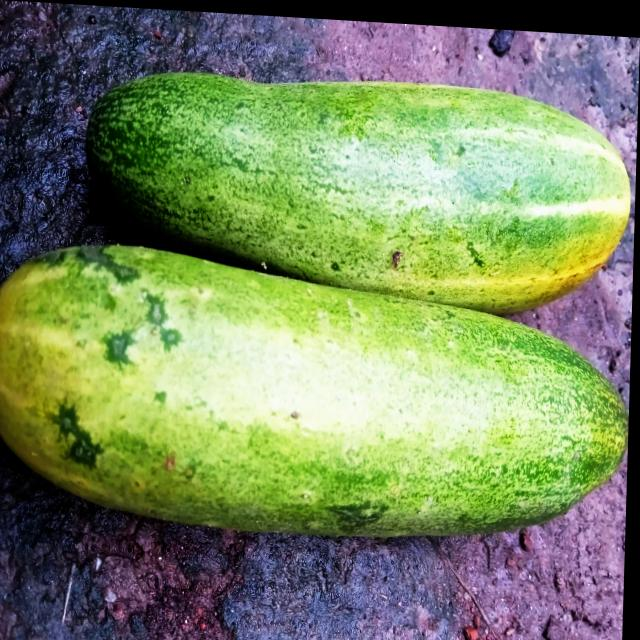Fresh-Cucumber: (0, 234, 635, 552), (80, 59, 636, 315)
